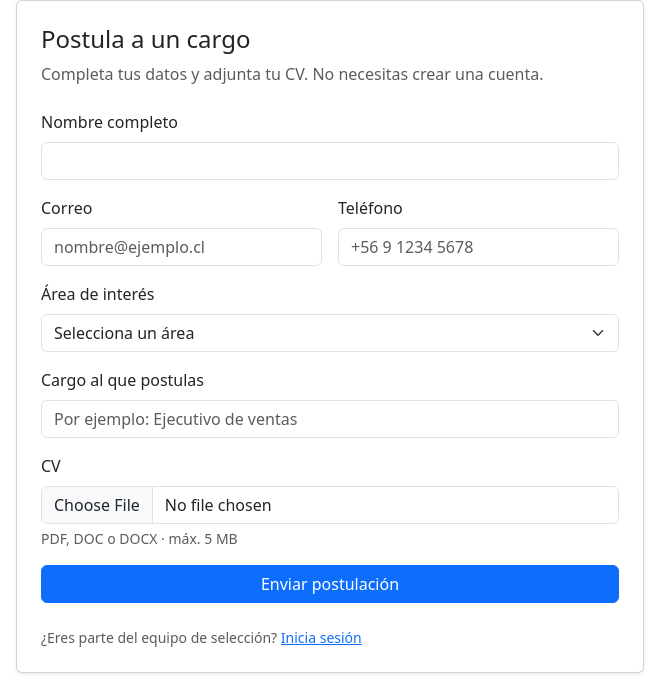
Scenario: Postular (formulario público) › validación visible (is-invalid e invalid-feedback) › al enviar vacío marca cada campo obligatorio, muestra su mensaje y no envía nada
Click the button "Enviar postulación".
click(330, 584)  # box x1=41 y1=565 x2=619 y2=603
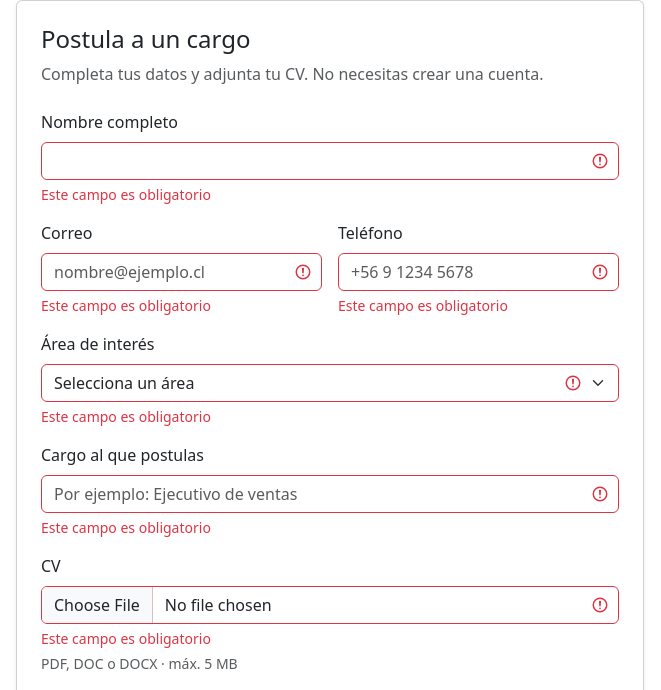
Now the text "Este campo es obligatorio" below "Nombre completo" is shown, box x1=41 y1=185 x2=211 y2=204
Now the text "Este campo es obligatorio" below "Correo" is shown, box x1=41 y1=296 x2=211 y2=315
Now the text "Este campo es obligatorio" below "Teléfono" is shown, box x1=338 y1=296 x2=508 y2=315
